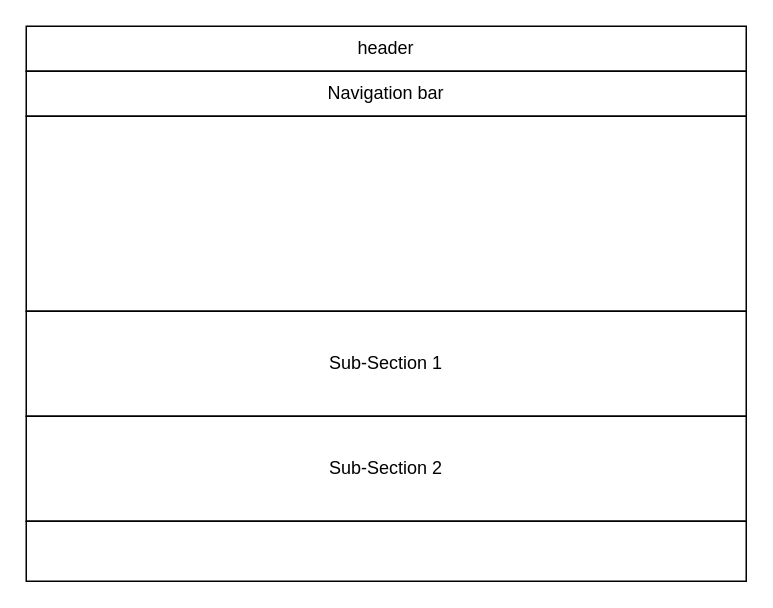
Image size: 773x608. Some labels were removed from this diagram. The centre of each missing label's shape, as x and y in pixels:
"Footer" belongs at (x=385, y=550).
"Main" belongs at (x=385, y=213).
